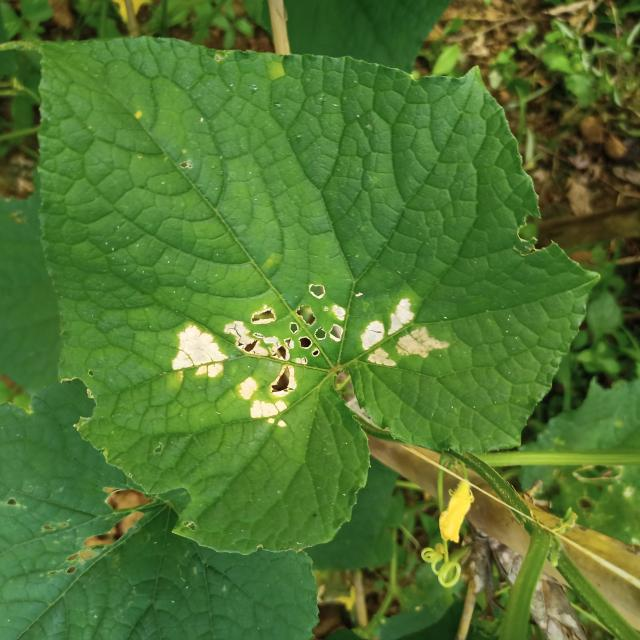disease_cucumber: (170, 280, 346, 435), (353, 293, 452, 383)
